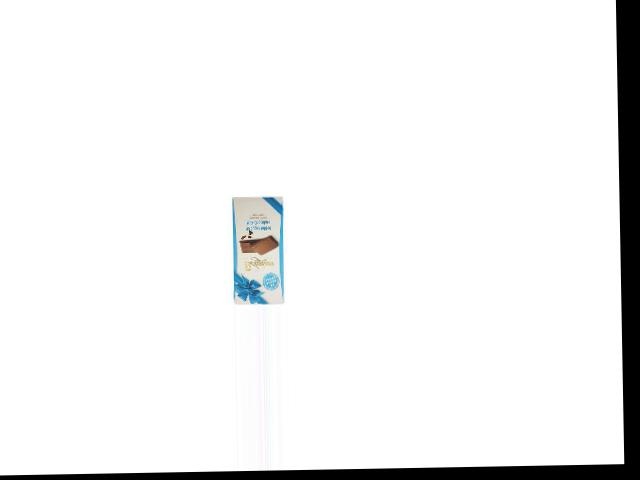chocolate: (224, 193, 289, 306)
